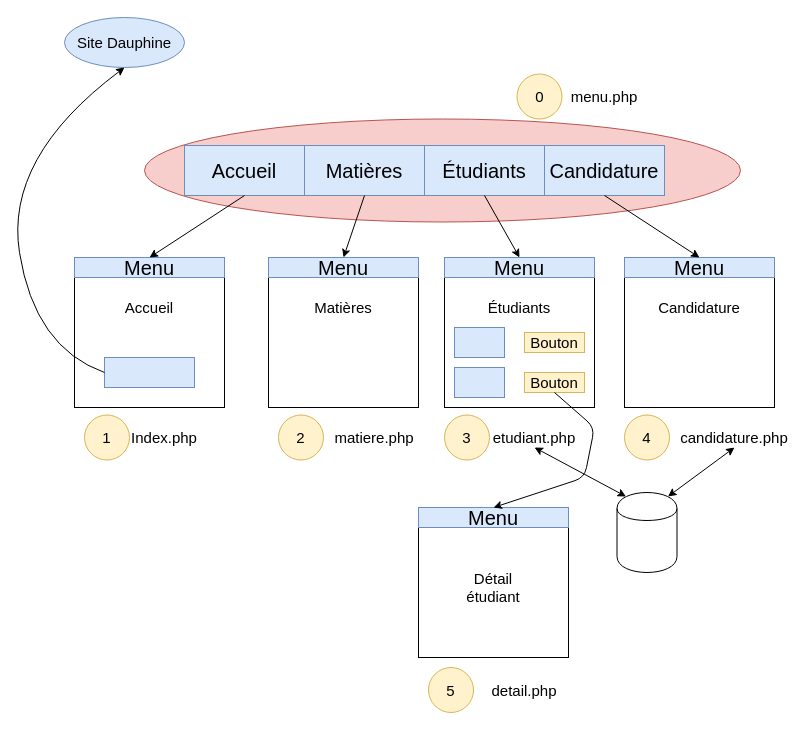
Image size: 806x730. Some labels were removed from this diagram. Each missing label, with the centre of its shape:
"BDD" goes at pixel 646 532.
"Lien" goes at pixel 149 372.
